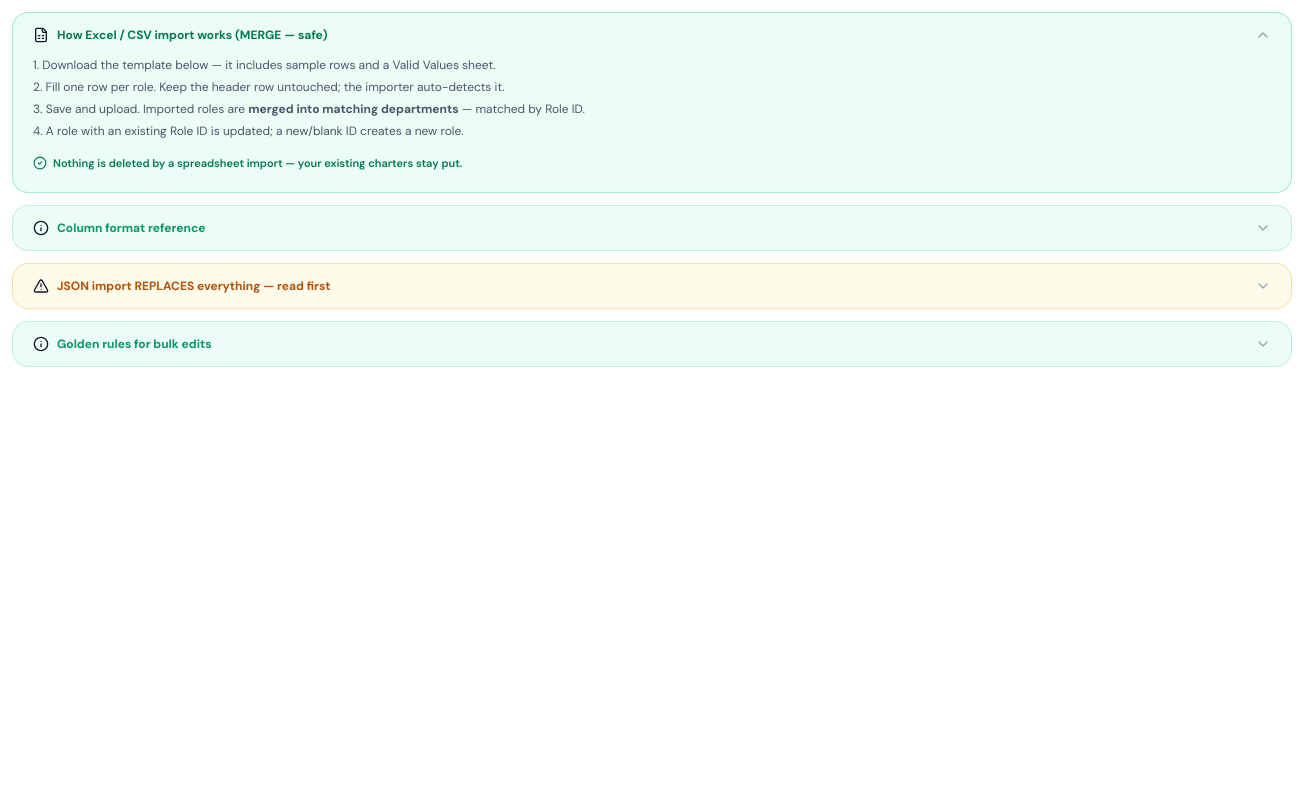
Test: ImportGuide › shows column format rules when expanded
Click the button "Column format reference": click(131, 228) [13,206,1291,250]
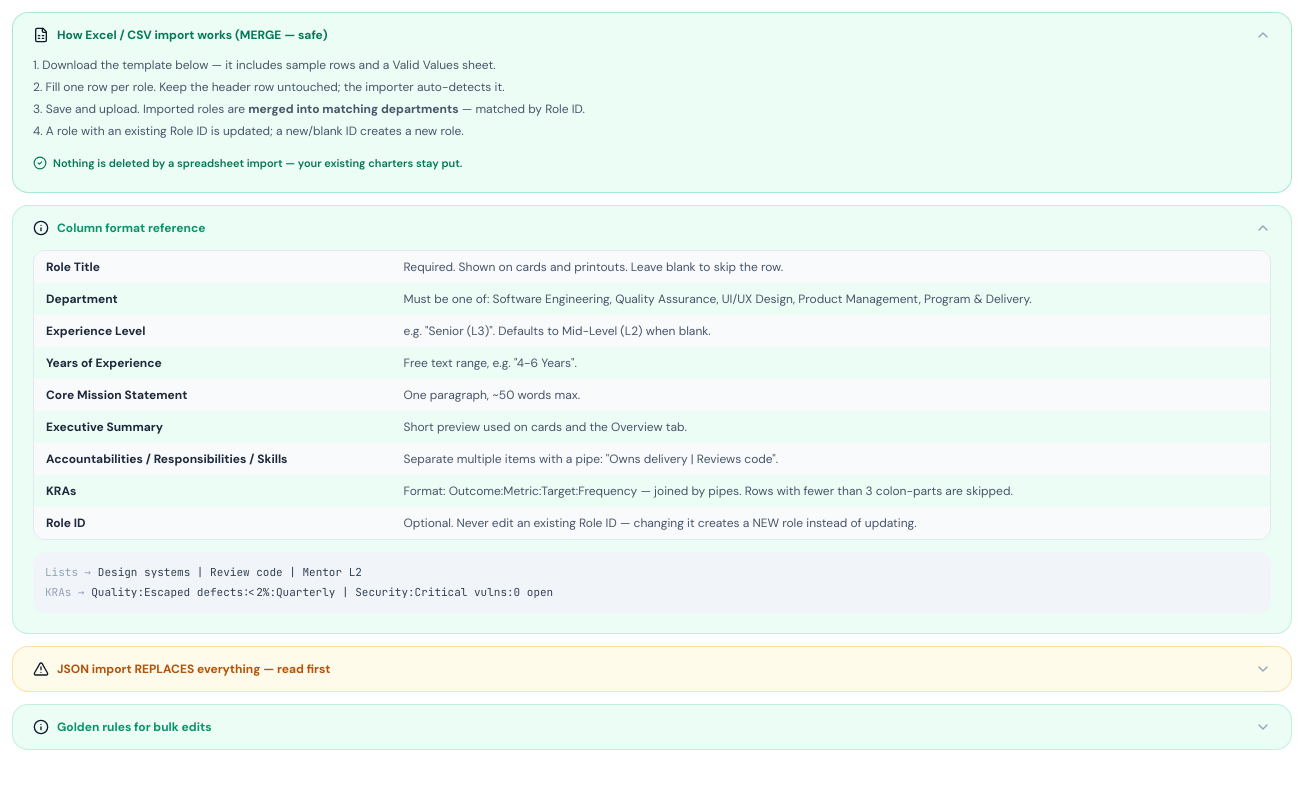
Now the text "Never edit an existing Role ID" is shown, box [404,514,917,530]
Now the text "Quality:Escaped defects:<2%:Quarterly" is shown, box [85,585,553,599]
